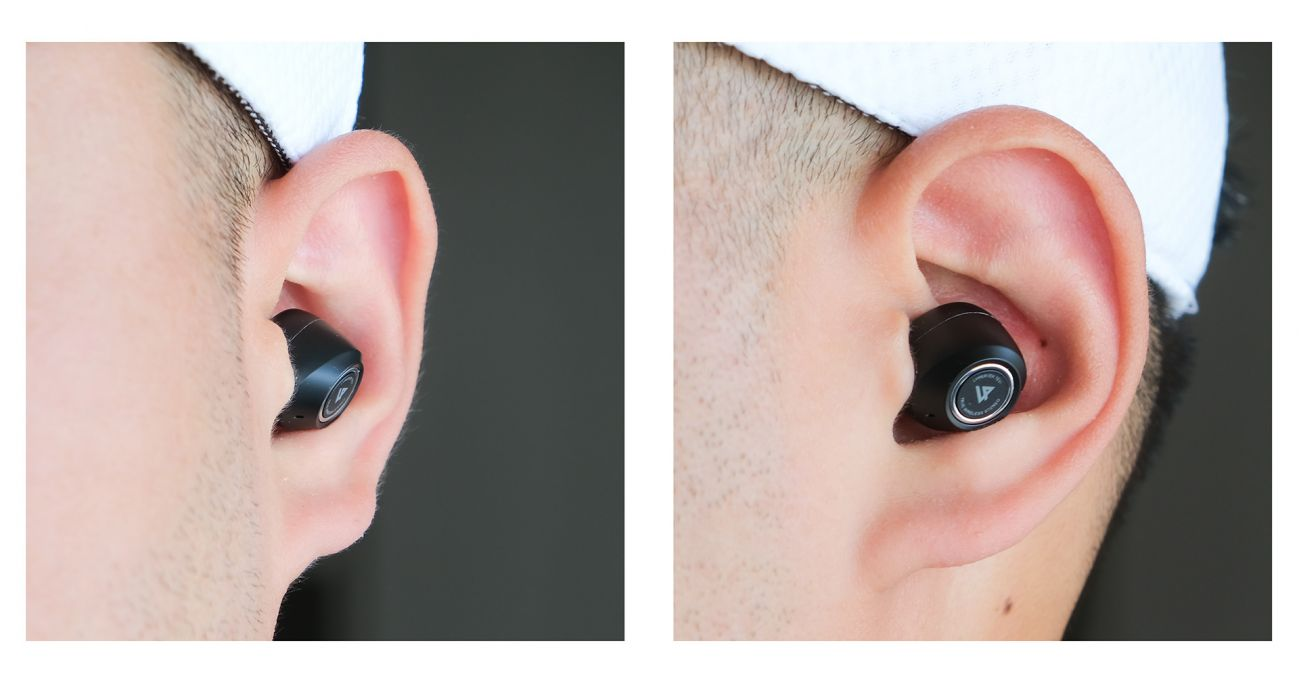earphone: (859, 105, 1150, 575), (241, 130, 437, 572)
